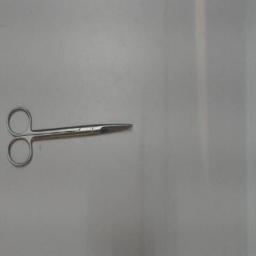Curved Mayo Scissors: (6, 104, 134, 170)
